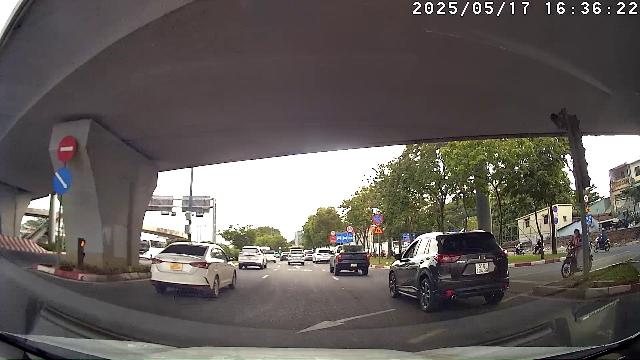102-cam-di-nguoc-chieu: (57, 135, 76, 163)
127-toc-do-toi-da-50: (584, 194, 589, 203)
127-toc-do-toi-da-60: (346, 225, 354, 233)
130-cam-dung-va-do-xe: (372, 213, 383, 224)
302a-huong-phai-di-vong-chuong-ngai-vat-1: (52, 167, 73, 194)
